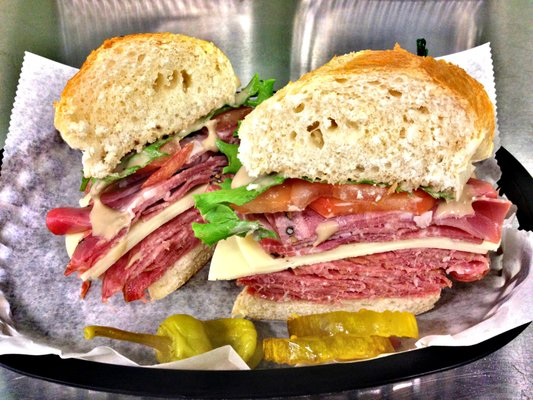soup: (196, 47, 518, 340), (48, 31, 274, 302)
